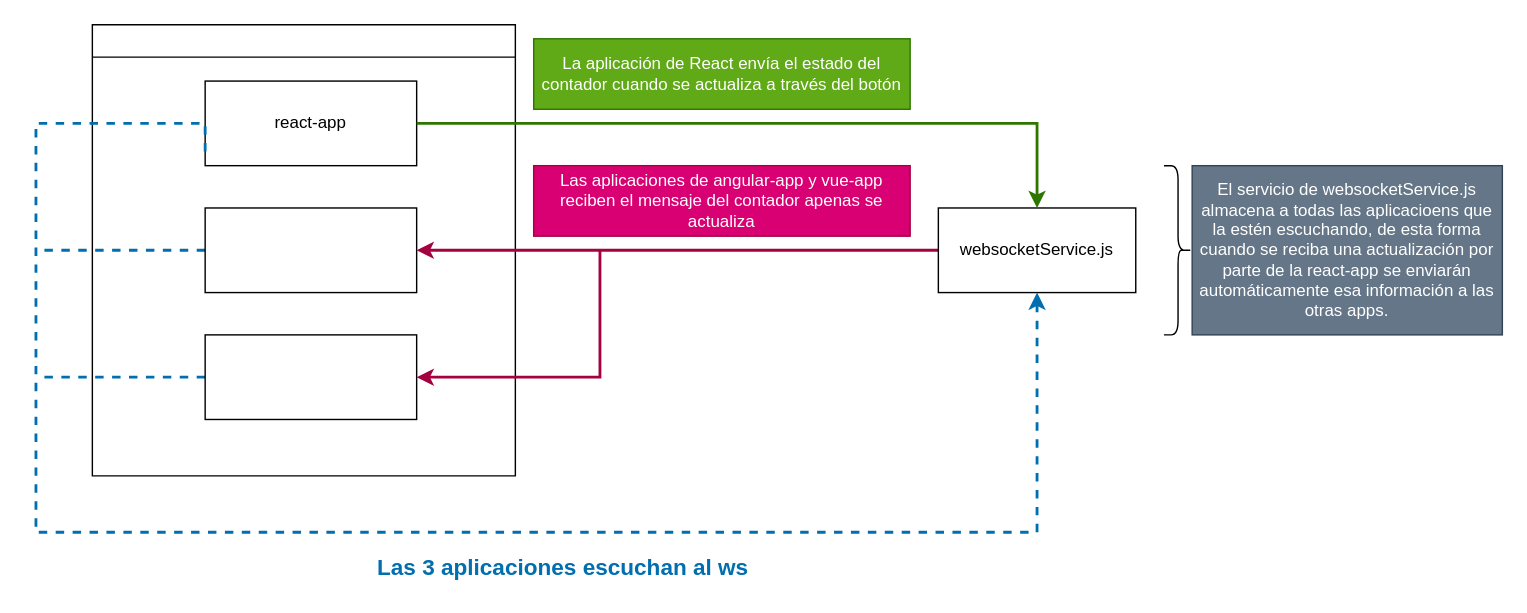
The diagram is 1527 pixels wide and 613 high, and some of its shapes have lost their labels. Here are the shapes that lost their labels. From the top down, the box of each, then its label:
(91, 23, 515, 476): root-config
(204, 207, 417, 293): angular-app
(204, 333, 417, 419): vue-app
